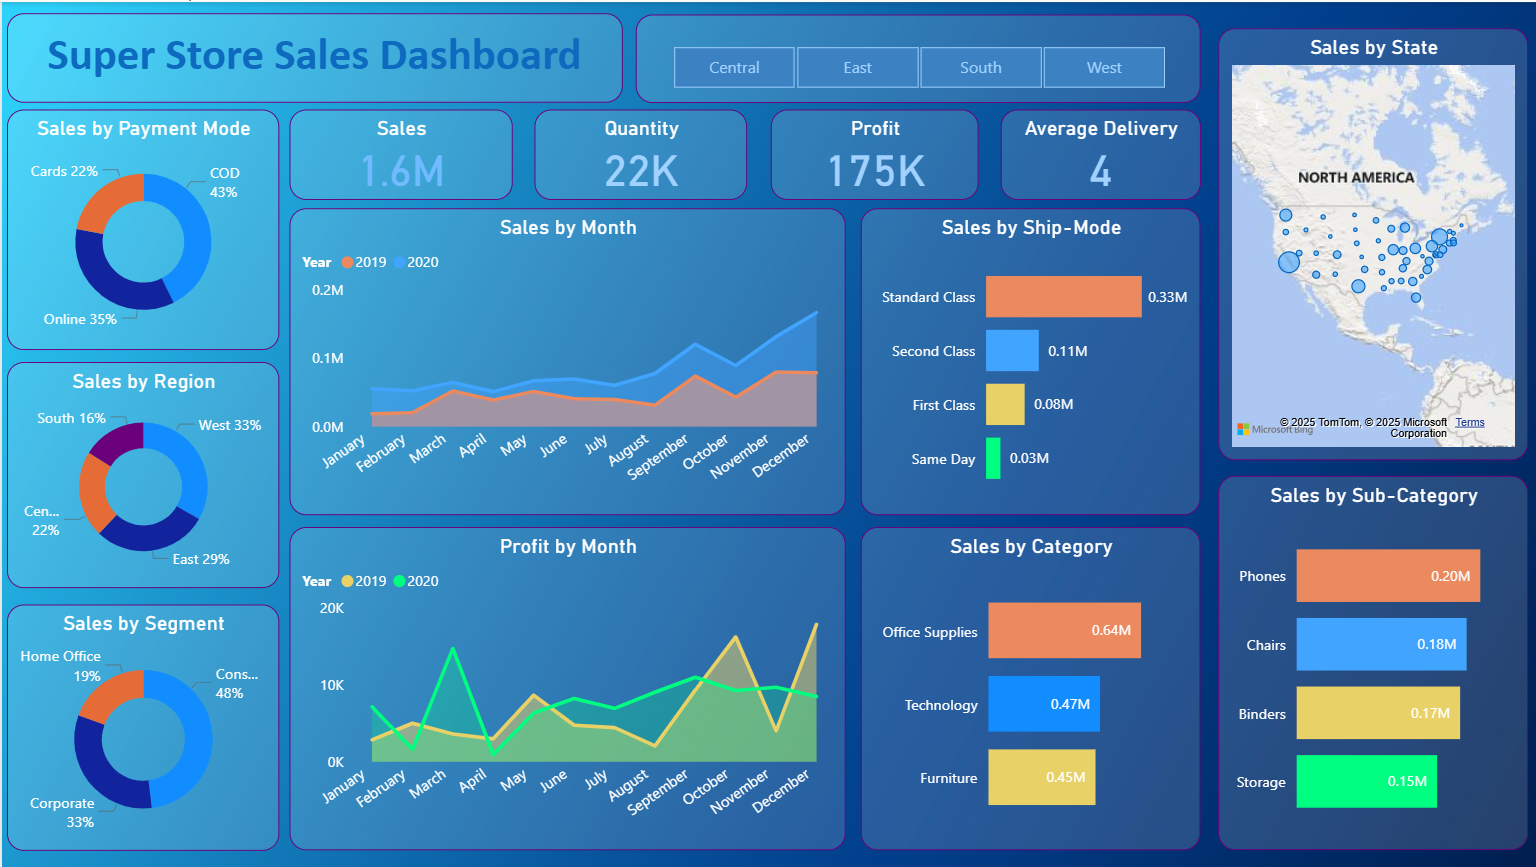

The page's visual inventory and layout, read from the dashboard file:
{"tool":"powerbi","page":{"name":"Page 1","canvas":[1280,720],"ordinal":0},"visuals":[{"type":"clusteredBarChart","title":"Sales by Category","fields":{"Category":["SuperStore_Sales_Dataset.Category"],"Y":["Sum(SuperStore_Sales_Dataset.Sales)"]},"box":[713.6,436.4,282.7,269],"z":0},{"type":"clusteredBarChart","title":"Sales by Sub-Category","fields":{"Category":["SuperStore_Sales_Dataset.Sub-Category"],"Y":["Sum(SuperStore_Sales_Dataset.Sales)"]},"box":[1011.3,393.8,258,311.5],"z":1000},{"type":"clusteredBarChart","title":"Sales by Ship-Mode","fields":{"Category":["SuperStore_Sales_Dataset.Ship Mode"],"Y":["Sum(SuperStore_Sales_Dataset.Sales)"]},"box":[713.6,171.5,282.7,255.2],"z":2000},{"type":"areaChart","title":"Sales by Month ","fields":{"Y":["Sum(SuperStore_Sales_Dataset.Sales)"],"Category":["SuperStore_Sales_Dataset.Order Date.Variation.Date Hierarchy.Month","SuperStore_Sales_Dataset.Order Date.Variation.Date Hierarchy.Day"],"Series":["SuperStore_Sales_Dataset.Order Date.Variation.Date Hierarchy.Year"]},"box":[238.8,171.5,462.4,255.2],"z":3000},{"type":"areaChart","title":"Profit by Month ","fields":{"Category":["SuperStore_Sales_Dataset.Order Date.Variation.Date Hierarchy.Month","SuperStore_Sales_Dataset.Order Date.Variation.Date Hierarchy.Day"],"Series":["SuperStore_Sales_Dataset.Order Date.Variation.Date Hierarchy.Year"],"Y":["Sum(SuperStore_Sales_Dataset.Profit)"]},"box":[238.8,436.4,462.4,269],"z":4000},{"type":"map","fields":{"Category":["SuperStore_Sales_Dataset.State"],"Size":["Sum(SuperStore_Sales_Dataset.Sales)"]},"box":[1011.3,22,258,359.5],"z":5000},{"type":"donutChart","title":"Sales by Segment","fields":{"Category":["SuperStore_Sales_Dataset.Segment"],"Y":["Sum(SuperStore_Sales_Dataset.Sales)"]},"box":[4.1,500.9,226.4,204.5],"z":6000},{"type":"donutChart","title":"Sales by Payment Mode","fields":{"Category":["SuperStore_Sales_Dataset.Payment Mode"],"Y":["Sum(SuperStore_Sales_Dataset.Sales)"]},"box":[4.1,89.2,226.4,200.3],"z":7000},{"type":"slicer","fields":{"Values":["SuperStore_Sales_Dataset.Region"]},"box":[527.2,10.3,469.7,73.8],"z":8000},{"type":"textbox","box":[4.1,9.6,511.8,74.1],"z":9000},{"type":"card","title":"Sales","fields":{"Values":["Sum(SuperStore_Sales_Dataset.Sales)"]},"box":[238.8,89.2,185.2,75.5],"z":10000},{"type":"card","title":"Quantity","fields":{"Values":["Sum(SuperStore_Sales_Dataset.Quantity)"]},"box":[443.2,89.2,177,75.5],"z":11000},{"type":"card","title":"Profit","fields":{"Values":["Sum(SuperStore_Sales_Dataset.Profit)"]},"box":[639.5,89.2,172.9,75.5],"z":12000},{"type":"card","title":"Average Delivery","fields":{"Values":["Avg(SuperStore_Sales_Dataset.AvgDelivery)"]},"box":[830.2,89.2,166,75.5],"z":13000},{"type":"donutChart","title":"Sales by Region","fields":{"Category":["SuperStore_Sales_Dataset.Region"],"Y":["Sum(SuperStore_Sales_Dataset.Sales)"]},"box":[4.1,299.1,226.4,188],"z":14000}]}

Visuals, with their boxes in screenshot pixels (x1, y1, x2, y2), scaled from the page's 1280x720 canvas onto the 1536x867 screenshot:
"Sales by Category" clusteredBarChart: bbox(856, 525, 1196, 849)
"Sales by Sub-Category" clusteredBarChart: bbox(1214, 474, 1523, 849)
"Sales by Ship-Mode" clusteredBarChart: bbox(856, 207, 1196, 514)
"Sales by Month " areaChart: bbox(287, 207, 841, 514)
"Profit by Month " areaChart: bbox(287, 525, 841, 849)
map - SuperStore_Sales_Dataset.State x Sum(SuperStore_Sales_Dataset.Sales): bbox(1214, 26, 1523, 459)
"Sales by Segment" donutChart: bbox(5, 603, 277, 849)
"Sales by Payment Mode" donutChart: bbox(5, 107, 277, 349)
slicer - SuperStore_Sales_Dataset.Region: bbox(633, 12, 1196, 101)
textbox: bbox(5, 12, 619, 101)
"Sales" card: bbox(287, 107, 509, 198)
"Quantity" card: bbox(532, 107, 744, 198)
"Profit" card: bbox(767, 107, 975, 198)
"Average Delivery" card: bbox(996, 107, 1195, 198)
"Sales by Region" donutChart: bbox(5, 360, 277, 587)
